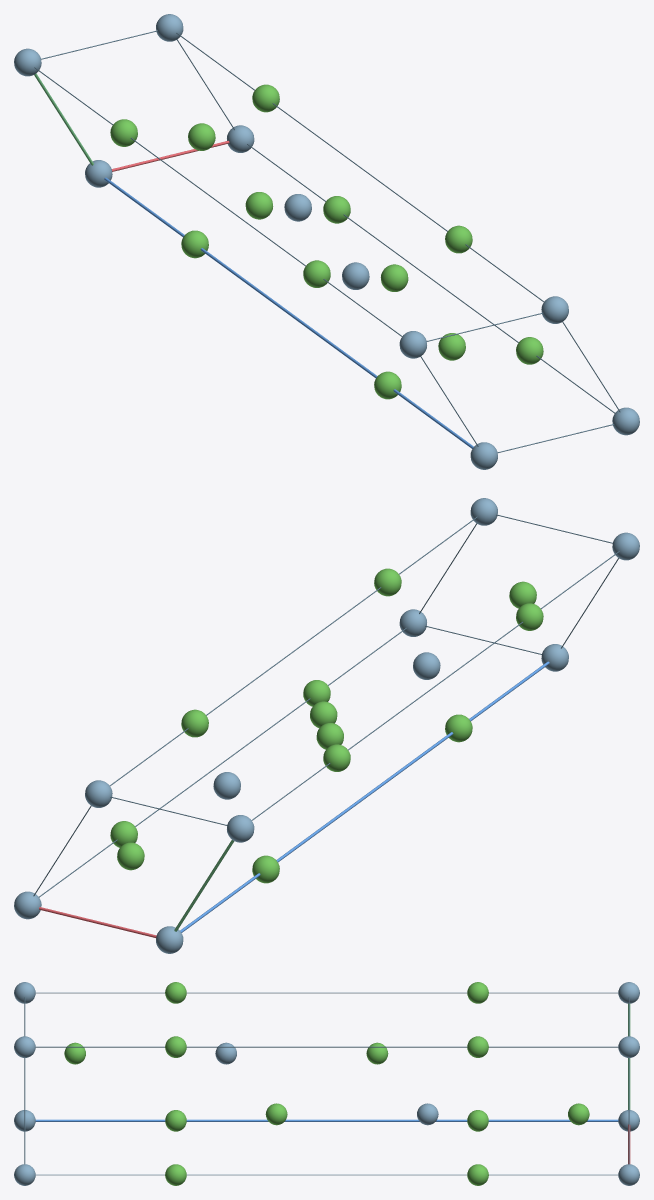
Rendered from chat-zinc-chloride.glb.
The picture shows the model from 3 angles, top to bottom: view 1: azimuth 30°, elevation 25°; view 2: azimuth 150°, elevation 25°; view 3: azimuth 270°, elevation 25°; orthographic projection. The views are drawn at different scales.
Parts seen in each view (by area): view 1: Ô mạng và các trục a, b, c; view 2: Ô mạng và các trục a, b, c; view 3: Ô mạng và các trục a, b, c, Cl · Cl · 1 (×12), Zn · Zn · 1 (×10).
Part boxes in pixels (<box>): Ô mạng và các trục a, b, c: <box>34,30,620,452</box>; Ô mạng và các trục a, b, c: <box>33,514,619,937</box>; Ô mạng và các trục a, b, c: <box>24,992,630,1175</box>; Cl · Cl · 1 (×12): <box>64,982,589,1185</box>; Zn · Zn · 1 (×10): <box>14,982,639,1185</box>.
Bounding box in the file's own units: 6.3 × 3.91 × 18.4.
